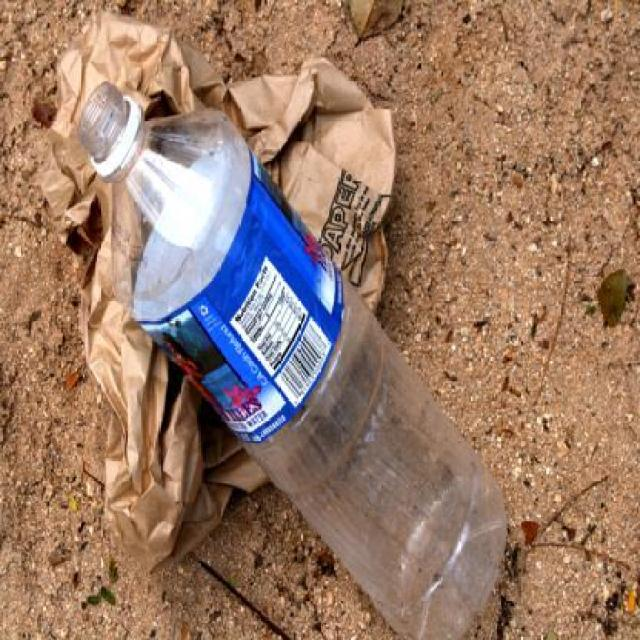bottle: (68, 79, 528, 639)
